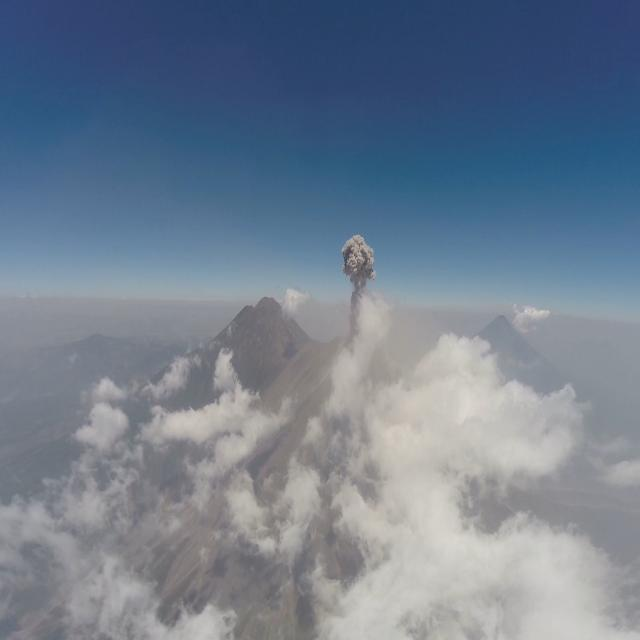Plume: (338, 232, 378, 302)
